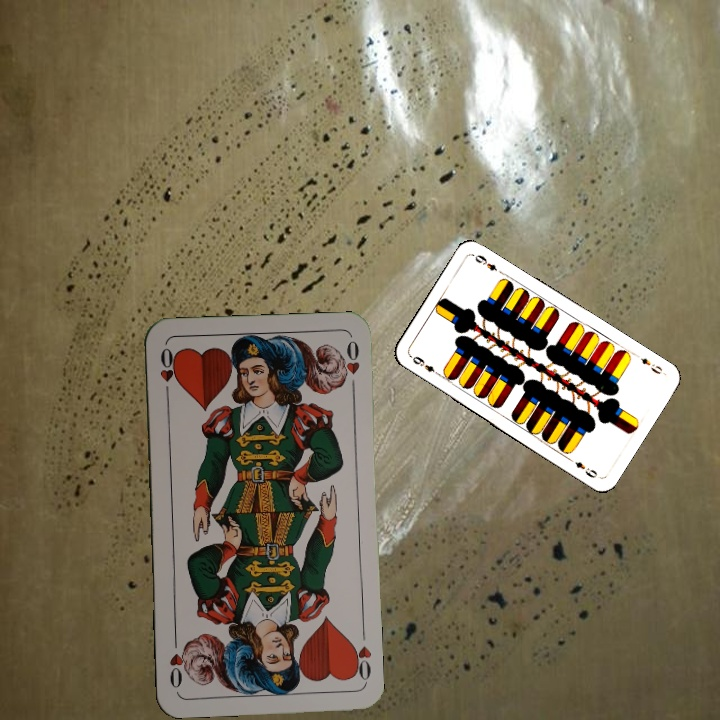E9: (406, 352, 443, 378), (631, 350, 665, 377)
HO: (155, 344, 179, 402), (347, 637, 375, 685)
